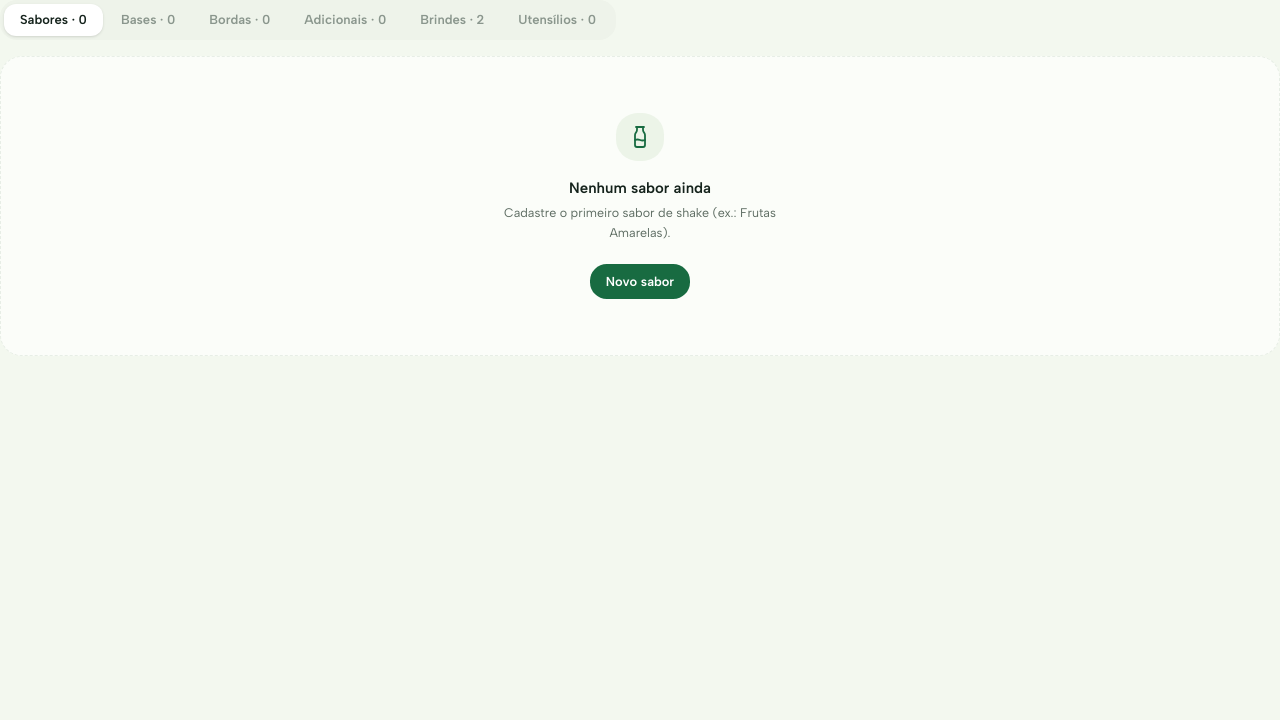
Test: ShakesClient — Brindes tab › opens the picker from the dashed add-card, and its footer pluralizes and disables at zero
Click the button "Brindes · 2".
click(452, 20)  # box [404,4,500,36]
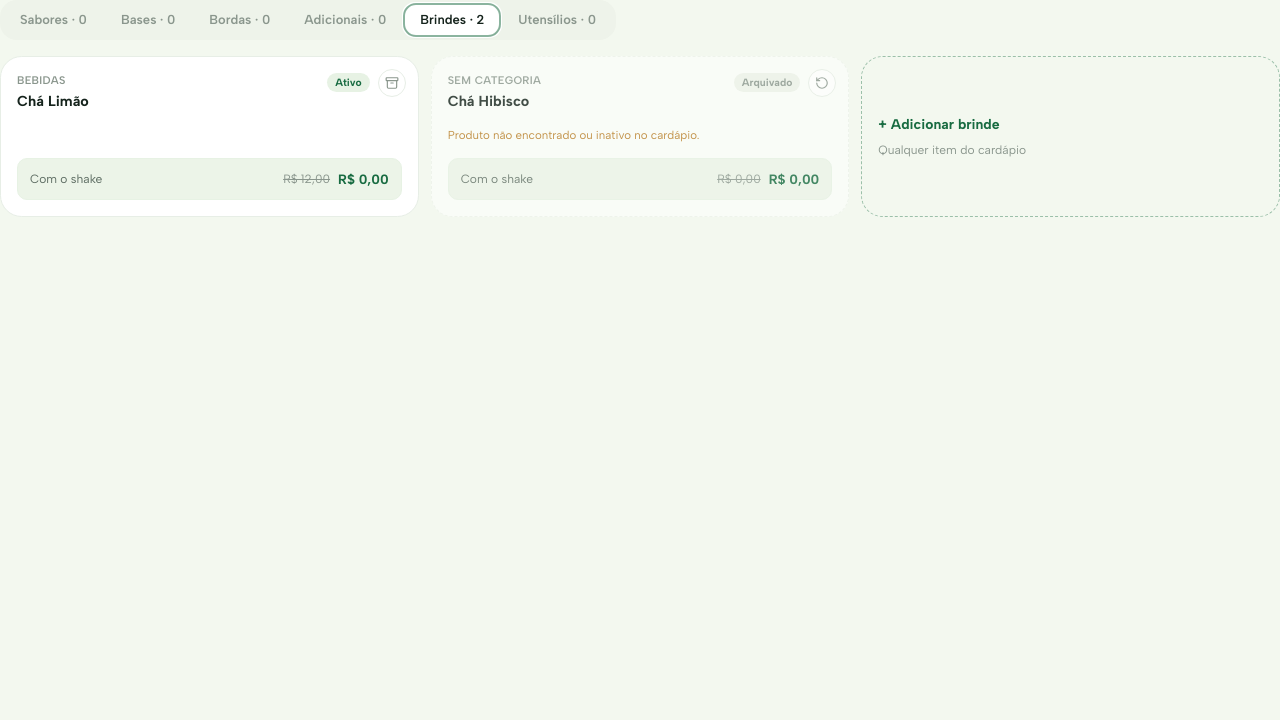
Click the text "+ Adicionar brinde".
click(939, 124)  # box [878,114,1000,135]
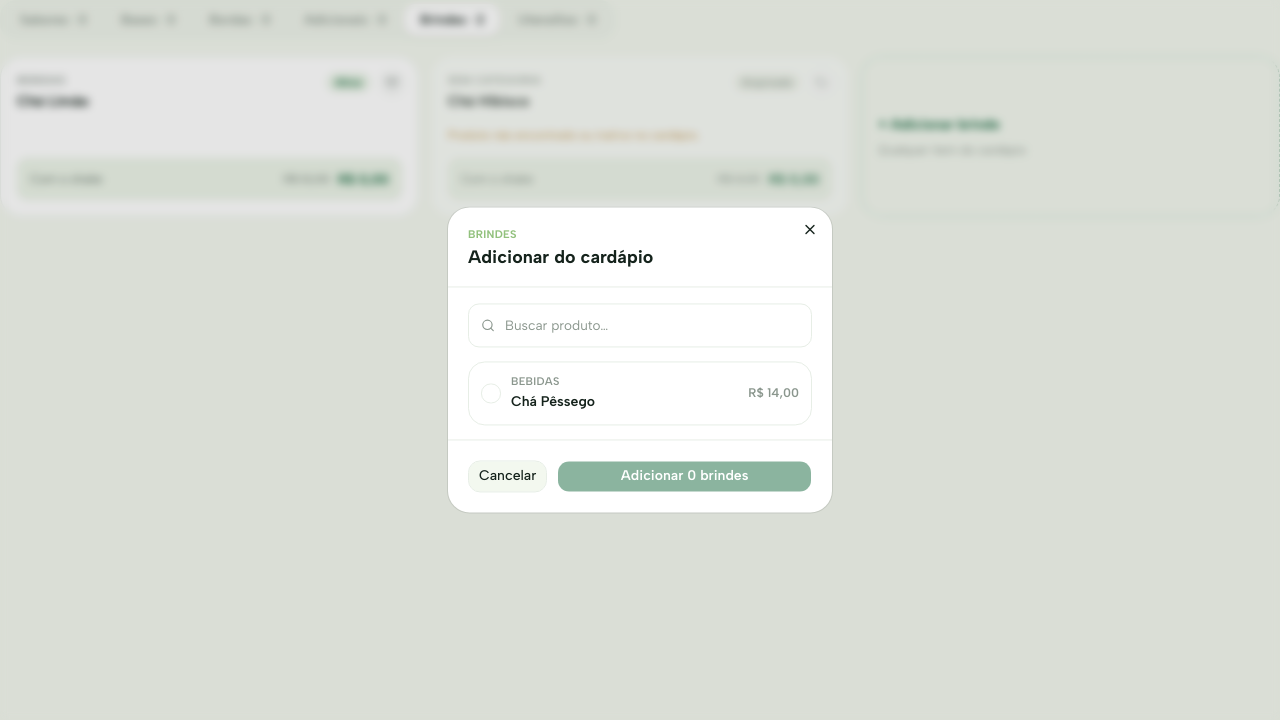
Result: the heading "Adicionar do cardápio" is shown at [468,246,653,268]
Result: the text "Chá Pêssego" is shown
Result: the button "Adicionar 0 brindes" is disabled at [557,461,812,493]
Click the text "Chá Pêssego".
click(553, 402)  # box [511,394,595,411]
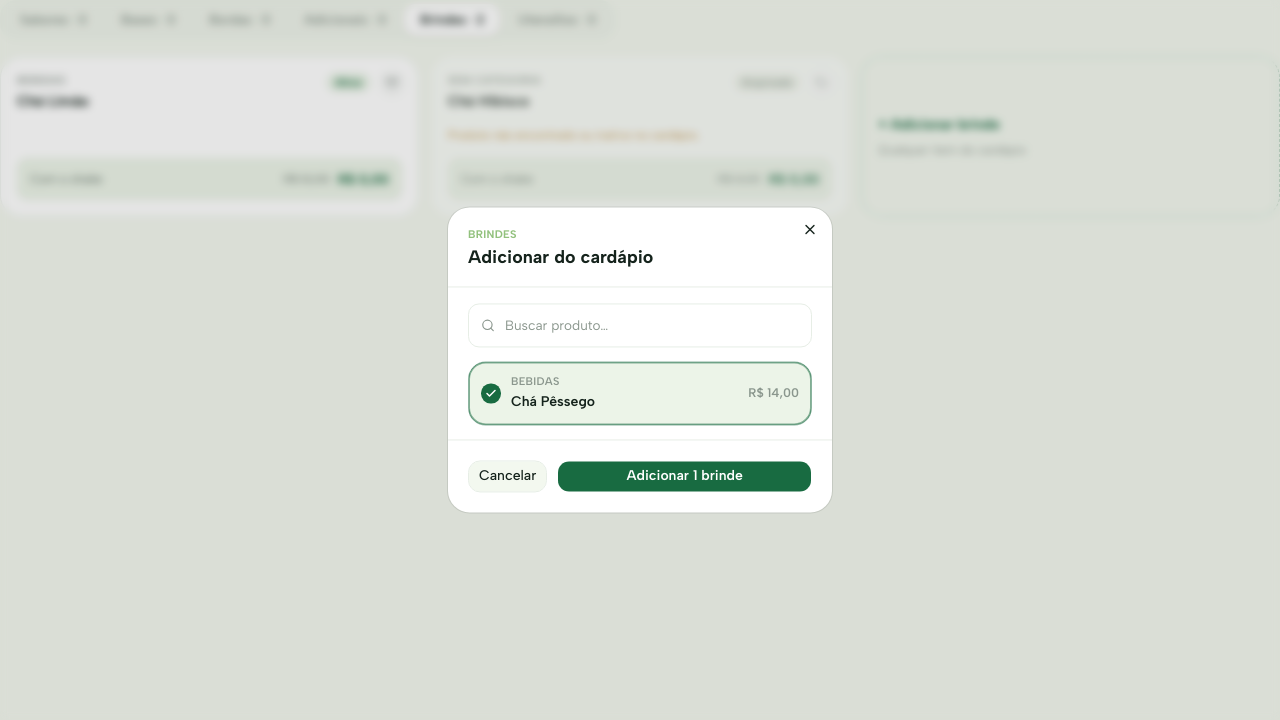
Result: the button "Adicionar 1 brinde" is enabled at [557,461,812,493]
